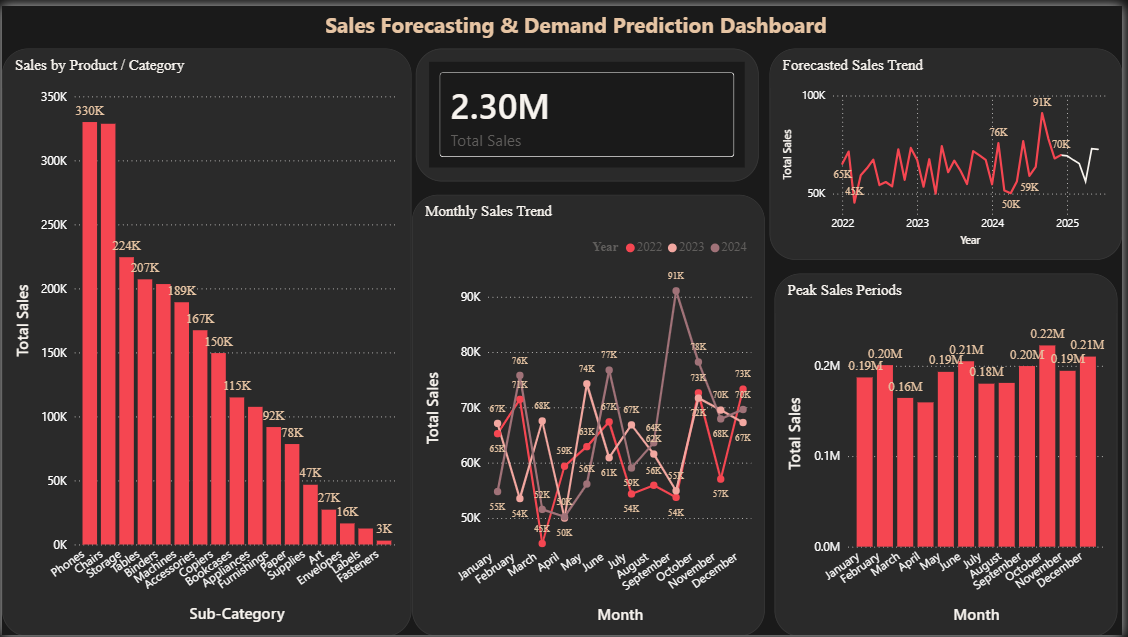

Layout of this report page (visuals, bound fields, positions):
{"tool":"powerbi","page":{"name":"Sales Forecating & Demand Prediction Dashboard","canvas":[1280,720],"ordinal":0},"visuals":[{"type":"textbox","box":[365,0,595,48.3],"z":0},{"type":"cardVisual","fields":{"Data":["Superstore.Total Sales"]},"box":[473.3,48.3,391.7,151.7],"z":1000},{"type":"lineChart","title":"Monthly Sales Trend","fields":{"Category":["Superstore.Month"],"Series":["Superstore.Year"],"Y":["Superstore.Total Sales"]},"box":[468.3,215,403.3,505],"z":2000},{"type":"clusteredColumnChart","title":"Sales by Product / Category","fields":{"Category":["Superstore.Sub-Category"],"Y":["Superstore.Total Sales"]},"box":[0,48.3,468.3,671.7],"z":3000},{"type":"clusteredColumnChart","title":"Peak Sales Periods","fields":{"Category":["Superstore.Month"],"Y":["Superstore.Total Sales"]},"box":[883.3,305,391.7,415],"z":4000},{"type":"lineChart","title":"Forecasted Sales Trend","fields":{"Category":["Superstore.Order Date.Variation.Date Hierarchy.Month"],"Y":["Superstore.Total Sales"]},"box":[876.7,48.3,403.3,241.7],"z":5000}]}

Visuals, with their boxes in screenshot pixels (x1, y1, x2, y2), scaled from the page's 1280x720 canvas onto the 1128x637 screenshot:
textbox: {"x1": 322, "y1": 0, "x2": 846, "y2": 43}
cardVisual - Superstore.Total Sales: {"x1": 417, "y1": 43, "x2": 762, "y2": 177}
"Monthly Sales Trend" lineChart: {"x1": 413, "y1": 190, "x2": 768, "y2": 636}
"Sales by Product / Category" clusteredColumnChart: {"x1": 0, "y1": 43, "x2": 413, "y2": 636}
"Peak Sales Periods" clusteredColumnChart: {"x1": 778, "y1": 270, "x2": 1124, "y2": 636}
"Forecasted Sales Trend" lineChart: {"x1": 773, "y1": 43, "x2": 1127, "y2": 257}
